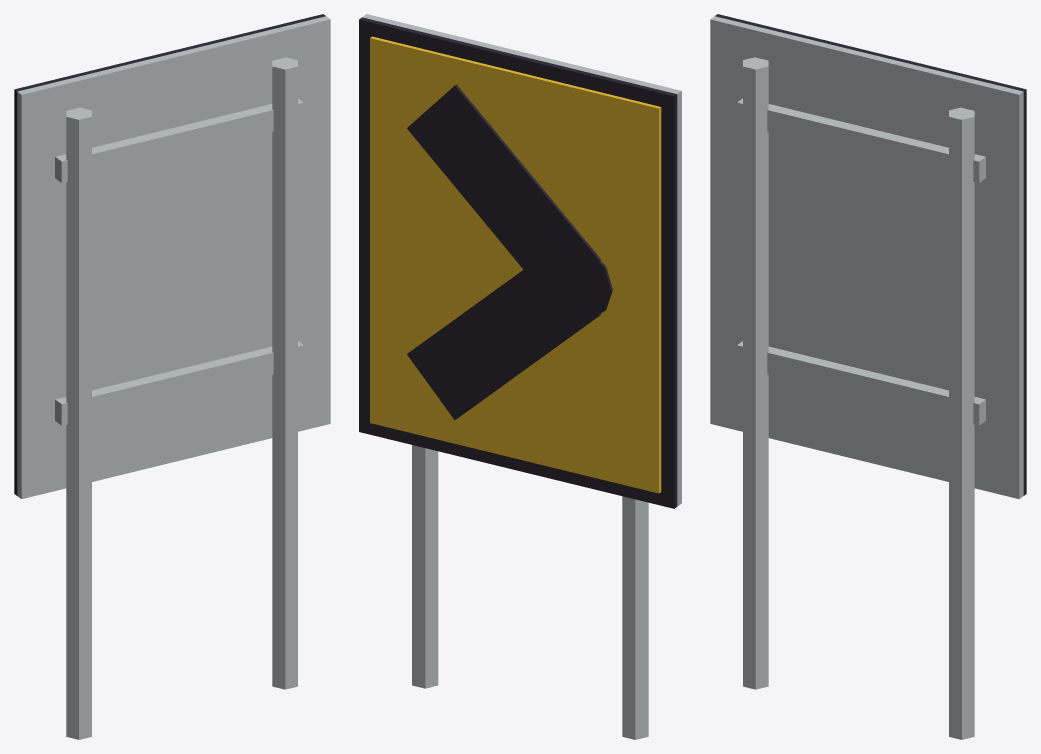
Rendered from corner_chevron_right.glb.
3 views of the same model, side by side, from view 1: azimuth 30°, elevation 25°; view 2: azimuth 150°, elevation 25°; view 3: azimuth 330°, elevation 25° (orthographic).
Visible parts, largest first — view 1: corner_chevron_right; view 2: corner_chevron_right; view 3: corner_chevron_right.
Boxes of the visible parts, bbox=[...] form: corner_chevron_right: bbox=[14, 14, 330, 739]; corner_chevron_right: bbox=[359, 14, 681, 739]; corner_chevron_right: bbox=[710, 14, 1026, 739].
Bounding box in the file's own units: 1.2 × 2.4 × 0.1593.
